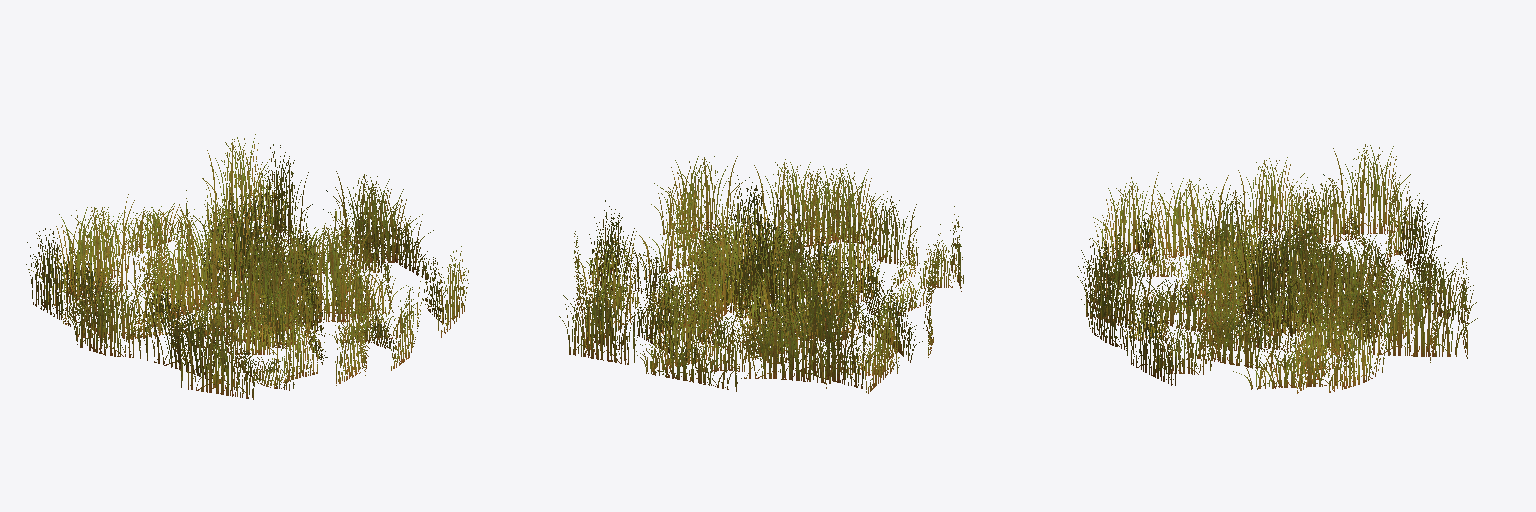
3 views of the same model, side by side, from view 1: azimuth 30°, elevation 25°; view 2: azimuth 150°, elevation 25°; view 3: azimuth 270°, elevation 25° (orthographic).
Visible parts, largest first — view 1: SM_Grass_01_Plane.771; view 2: SM_Grass_01_Plane.771; view 3: SM_Grass_01_Plane.771.
Part boxes in pixels (x1,y1,x2,y2): SM_Grass_01_Plane.771: (26, 134, 468, 399); SM_Grass_01_Plane.771: (559, 156, 963, 393); SM_Grass_01_Plane.771: (1077, 144, 1477, 393).
Bounding box in the file's own units: 2.05 × 0.6082 × 2.03.
1 materials, 1 textured.